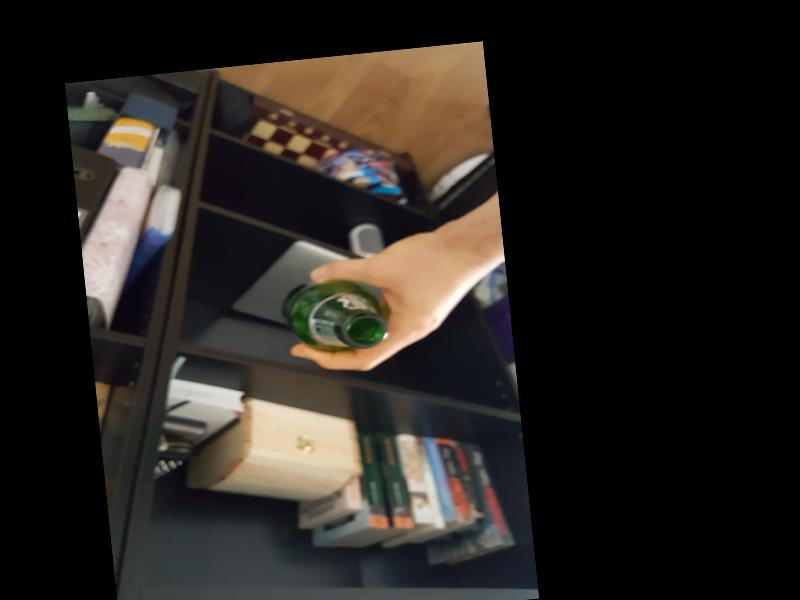Beer: (279, 271, 390, 355)
